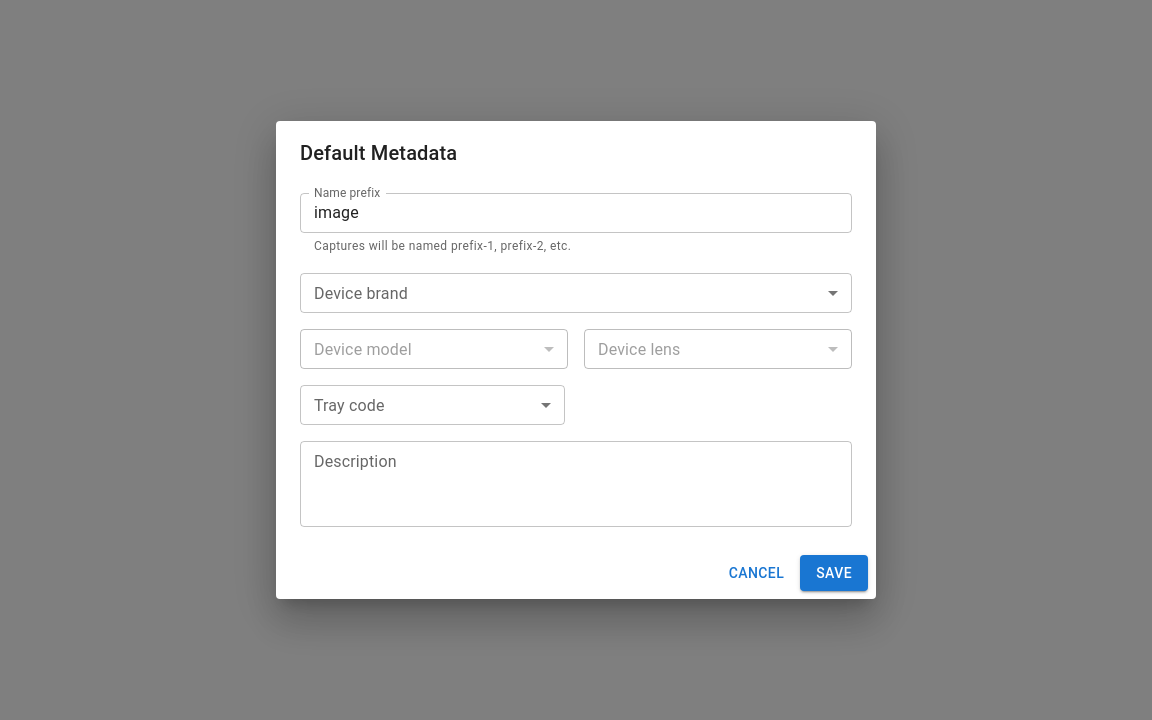
Test: MetadataDialog › description field › shows a validation error for an invalid description
$ is not in the allowed character set for descriptions
Step 1. Type "bad$description" into the text box labelled "Description" → (576, 484), box [314,449,838,518]
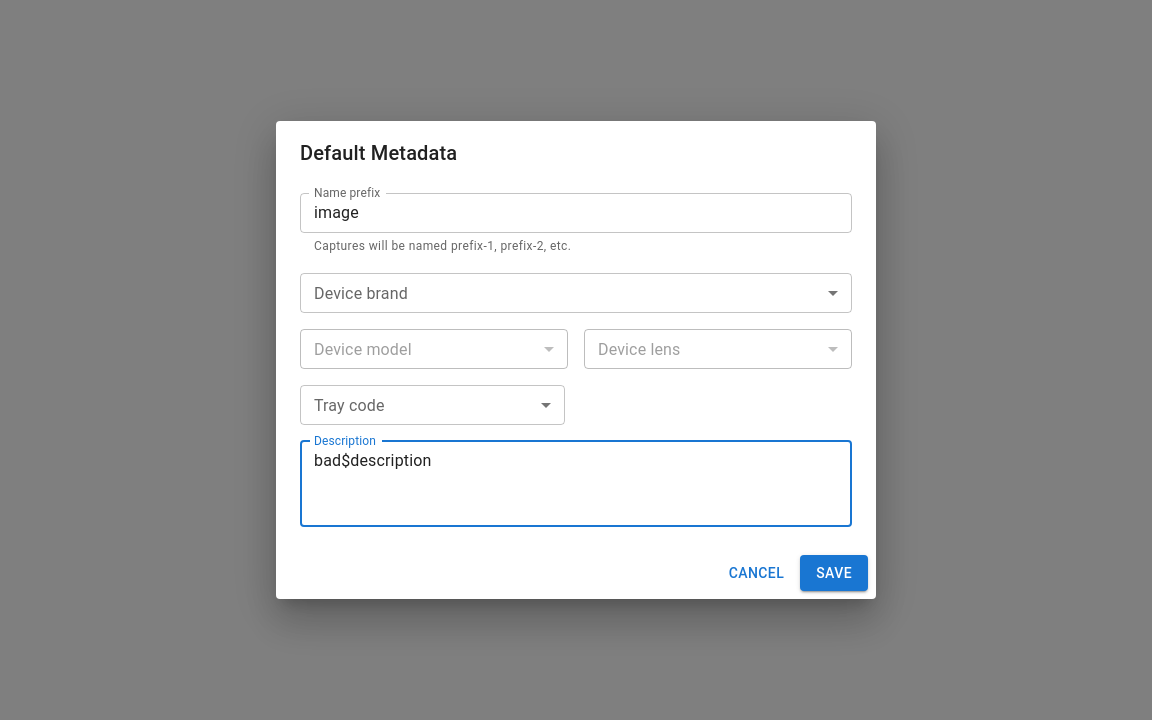
Step 2. Click the button "Save" → (834, 573), box [800,555,868,591]
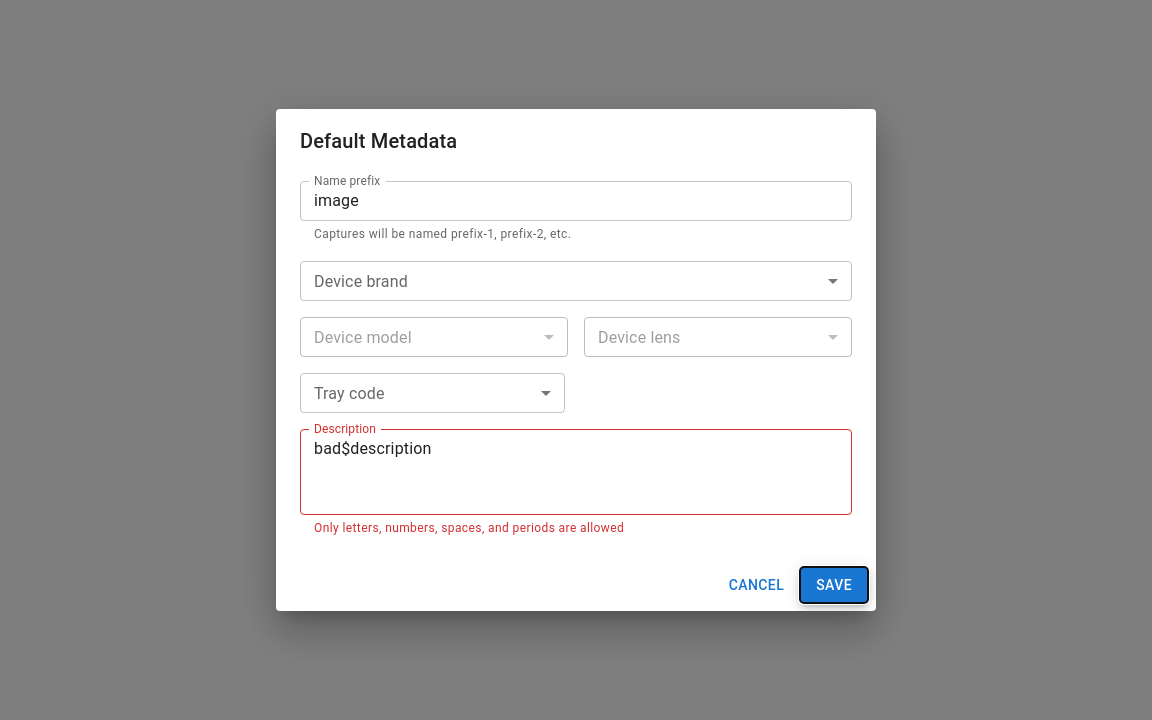
expect the text "Only letters, numbers, spaces, and periods are allowed" is shown: met, box [314,521,624,535]
